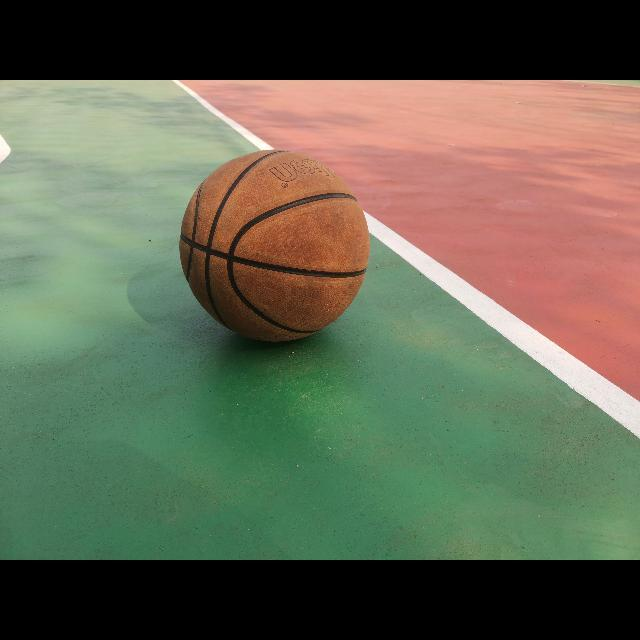basketball: (180, 150, 370, 342)
